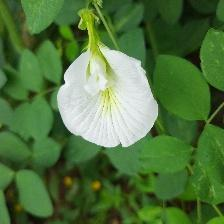shankupushpam: (57, 10, 163, 151)
